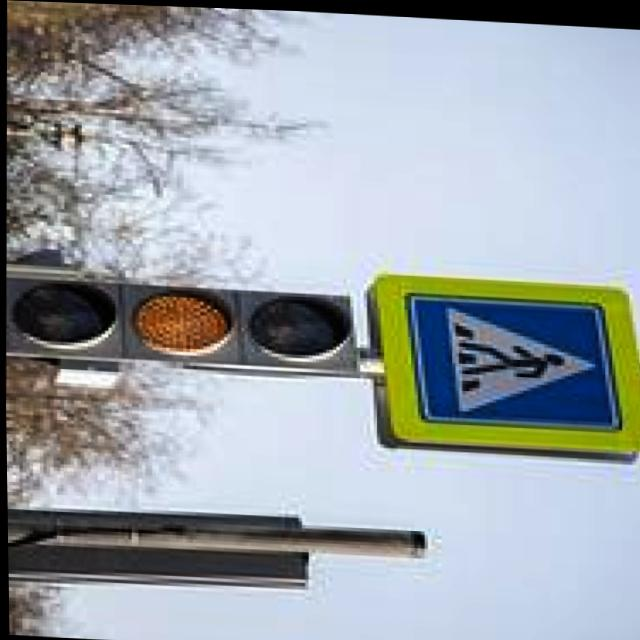yellow_light: (95, 254, 241, 368)
